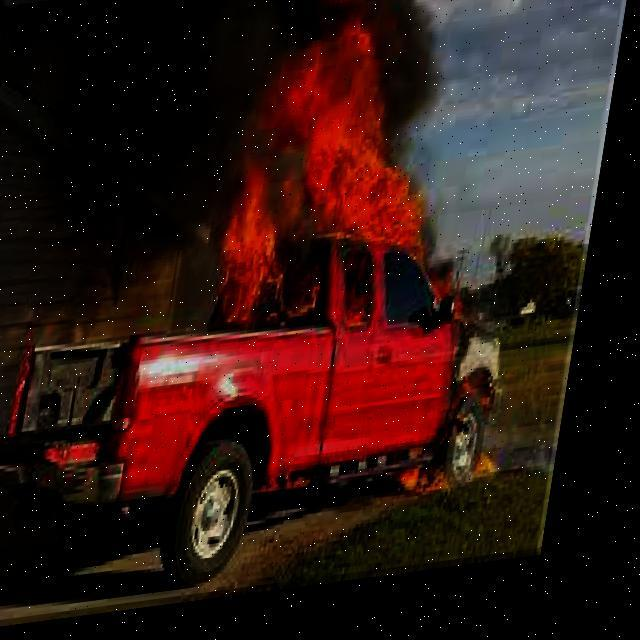Fire: (210, 0, 514, 361)
